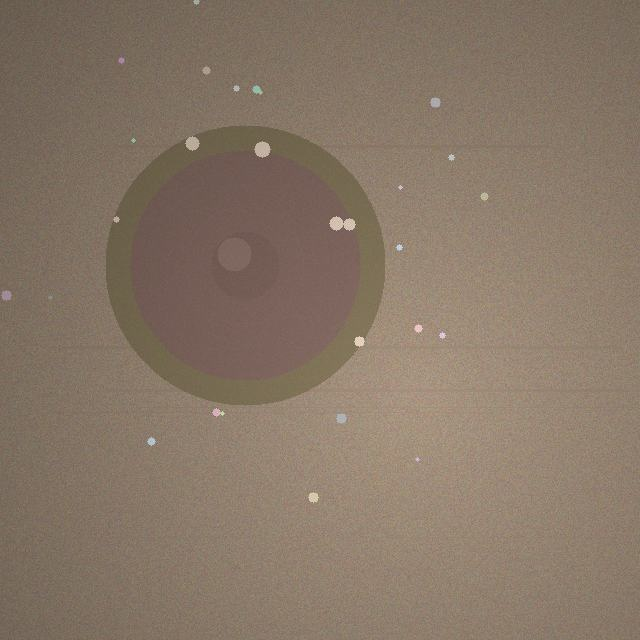overburn: (105, 125, 385, 405)
